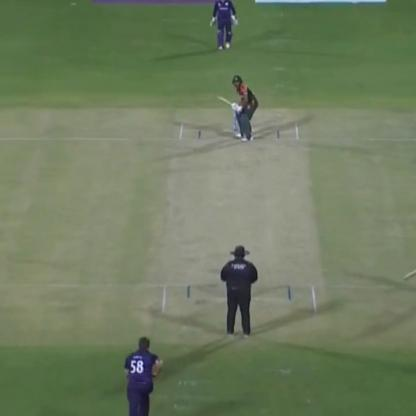bat: (208, 90, 237, 112)
pitch: (154, 121, 313, 318)
